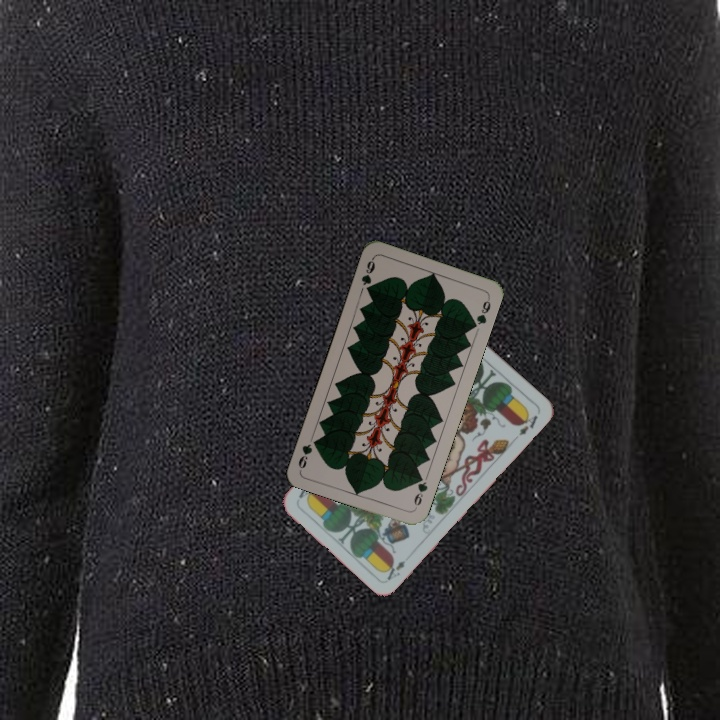EA: (382, 556, 408, 583)
G9: (357, 254, 378, 296), (410, 470, 430, 512)
